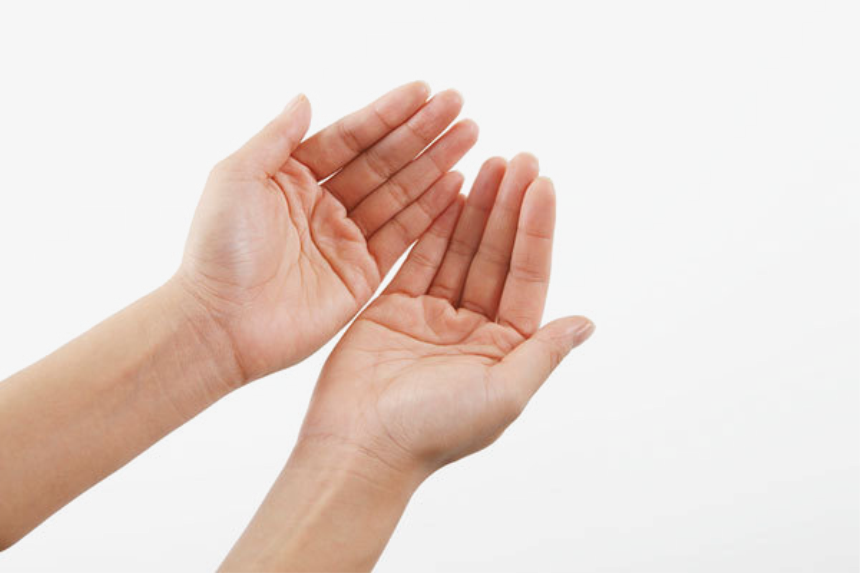no-phone: (169, 69, 482, 380), (309, 148, 598, 458)
